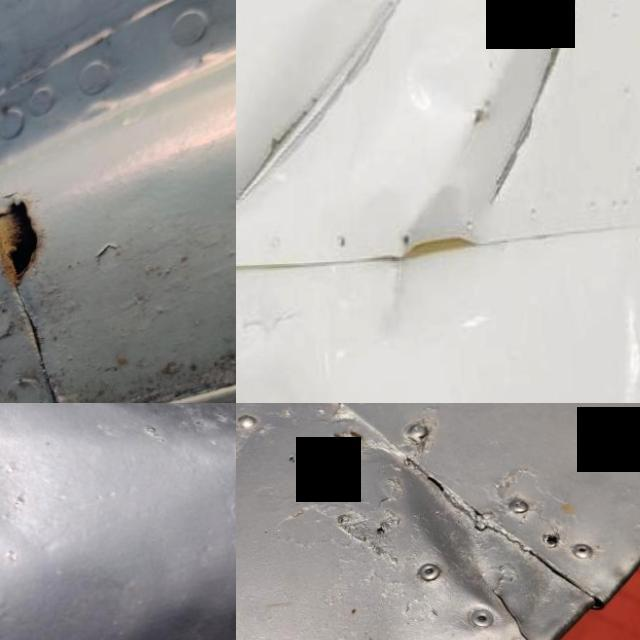Crack: (0, 183, 60, 311), (461, 564, 546, 640)
Dent: (392, 0, 564, 274), (0, 403, 236, 525), (0, 442, 60, 575)
